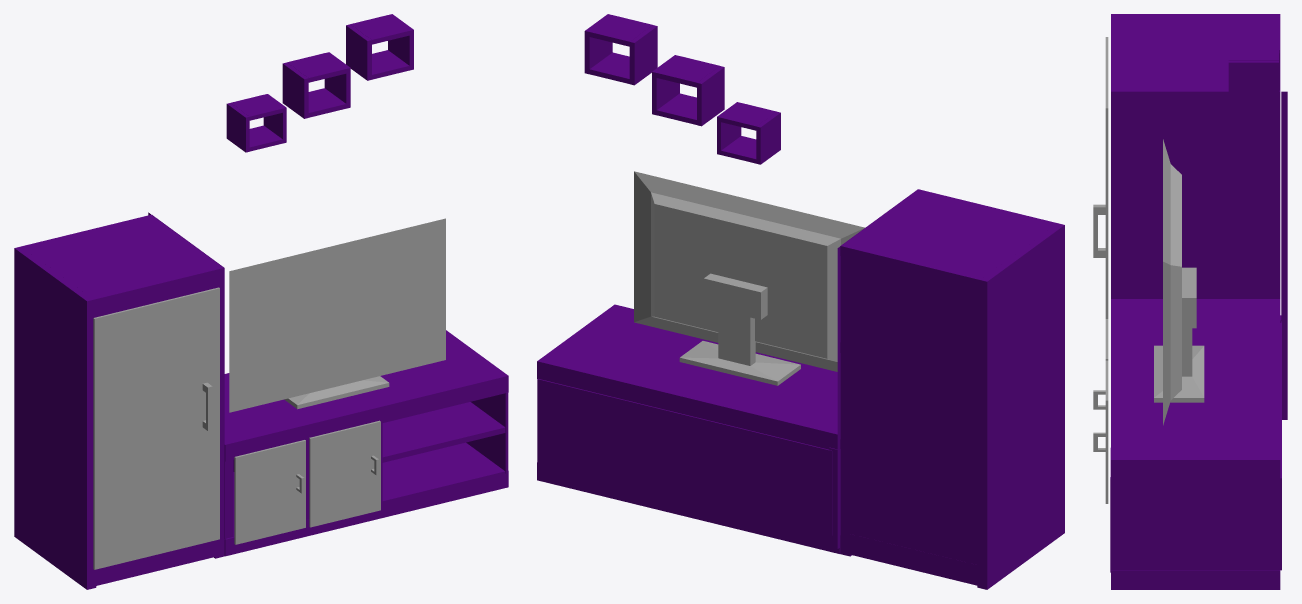
3 renders of one model, left to right at view 1: azimuth 30°, elevation 25°; view 2: azimuth 150°, elevation 25°; view 3: azimuth 270°, elevation 25°, orthographic. The views are drawn at different scales.
Parts seen in each view (by area): view 1: furniture_xena:tablon_estante_superior, pCube3, pCube6, pCube8, pCube7, furniture_xena:sup_caja_med002, furniture_xena:sup_caja_grande003, furniture_xena:sup_caja_peqe001; view 2: furniture_xena:tablon_estante_superior, pCube3, furniture_xena:sup_caja_grande003, furniture_xena:sup_caja_med002, furniture_xena:sup_caja_peqe001; view 3: furniture_xena:tablon_estante_superior, pCube3, furniture_xena:sup_caja_grande003, pCube6, pCube8, furniture_xena:sup_caja_med002, pCube7.
Boxes of the visible parts, left/top/right/bottom form: furniture_xena:tablon_estante_superior: left=14, top=212, right=508, bottom=589; pCube3: left=229, top=218, right=445, bottom=412; pCube6: left=93, top=287, right=219, bottom=569; pCube8: left=309, top=420, right=380, bottom=527; pCube7: left=234, top=440, right=305, bottom=544; furniture_xena:sup_caja_med002: left=282, top=52, right=350, bottom=118; furniture_xena:sup_caja_grande003: left=346, top=14, right=413, bottom=80; furniture_xena:sup_caja_peqe001: left=226, top=94, right=286, bottom=152; furniture_xena:tablon_estante_superior: left=537, top=189, right=1064, bottom=589; pCube3: left=634, top=171, right=864, bottom=385; furniture_xena:sup_caja_grande003: left=584, top=14, right=657, bottom=85; furniture_xena:sup_caja_med002: left=652, top=55, right=724, bottom=126; furniture_xena:sup_caja_peqe001: left=717, top=102, right=780, bottom=164; furniture_xena:tablon_estante_superior: left=1110, top=14, right=1287, bottom=589; pCube3: left=1154, top=139, right=1204, bottom=425; furniture_xena:sup_caja_grande003: left=1228, top=36, right=1278, bottom=108; pCube6: left=1093, top=37, right=1108, bottom=318; pCube8: left=1093, top=360, right=1108, bottom=503; furniture_xena:sup_caja_med002: left=1229, top=27, right=1279, bottom=99; pCube7: left=1093, top=319, right=1108, bottom=409.
Size of the model in its own units: 275 by 269 by 94.08.
